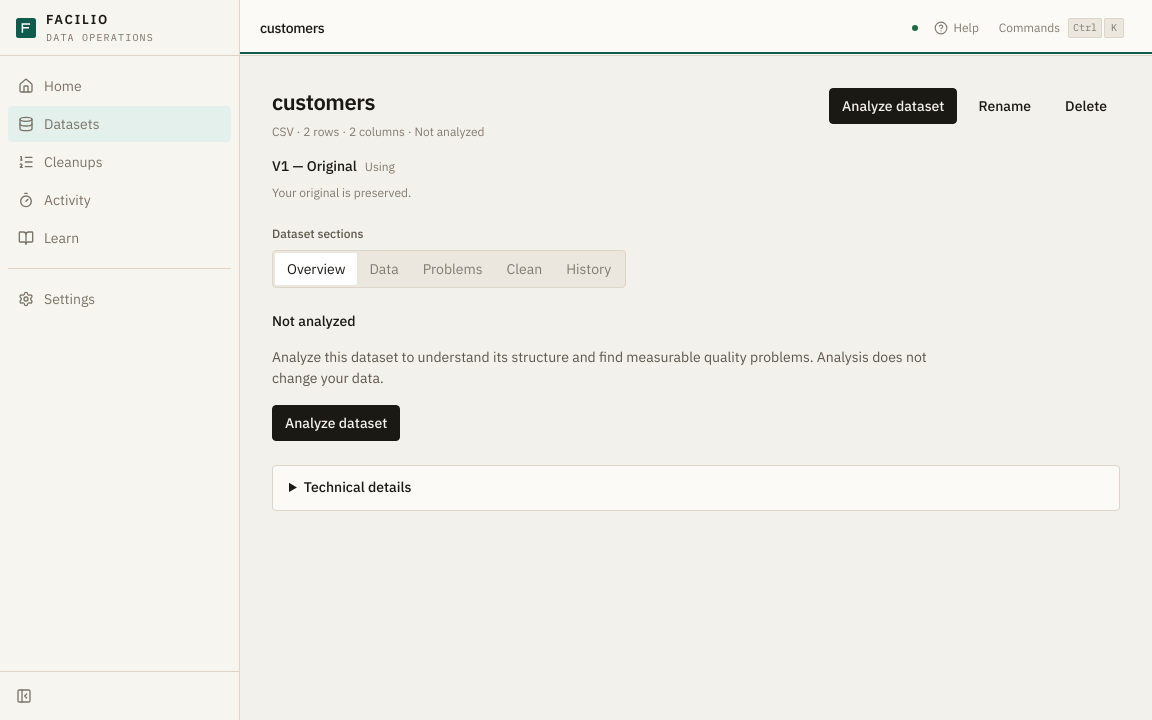
Scenario: data preview keeps zero and false visible and states the preview bound
Expected: the heading "customers" is shown, [272, 87, 375, 116]
Click the radio button labelled "Data" at (384, 269), box [357, 253, 411, 285]
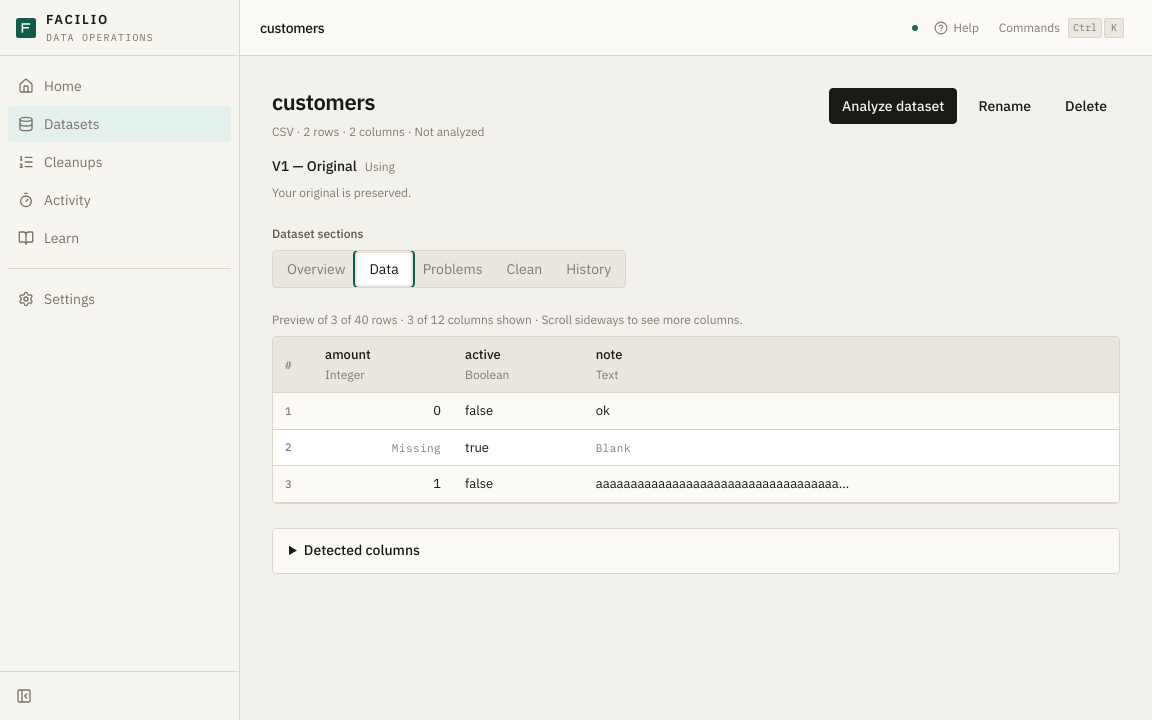
Expected: the text "0" is shown, [433, 402, 441, 420]
Expected: the text "false" next to "ok" is shown, [465, 402, 493, 420]
Expected: the text titled "Missing value" is shown, [392, 441, 441, 455]
